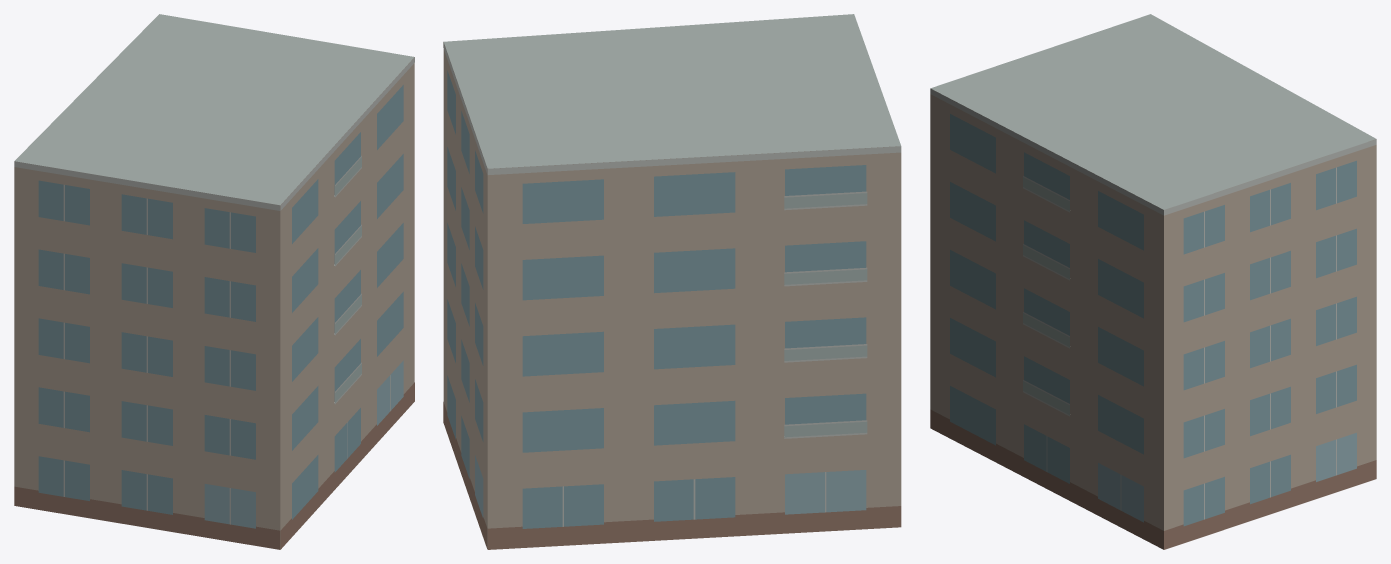
Rendered from survey-upis-32814702.glb.
3 renders of one model, left to right at view 1: azimuth 30°, elevation 25°; view 2: azimuth 150°, elevation 25°; view 3: azimuth 270°, elevation 25°, orthographic. The views are drawn at different scales.
Visible parts, largest first — view 1: survey-upis-32814702.tmp; view 2: survey-upis-32814702.tmp; view 3: survey-upis-32814702.tmp.
Part boxes in pixels (<box>): survey-upis-32814702.tmp: <box>14,14,414,549</box>; survey-upis-32814702.tmp: <box>443,14,901,549</box>; survey-upis-32814702.tmp: <box>930,14,1376,549</box>.
Size of the model in its own units: 17.94 by 14.5 by 17.26.
